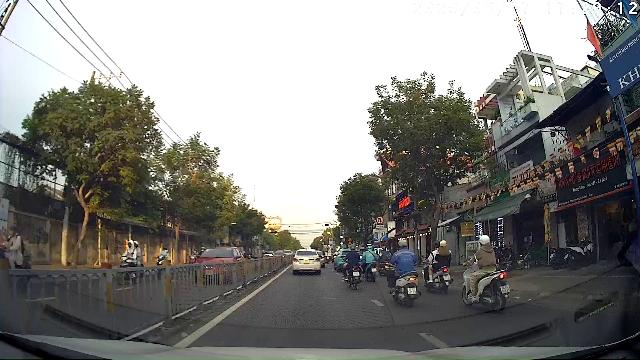124b-cam-oto-quay-dau-xe: (376, 216, 384, 224)
